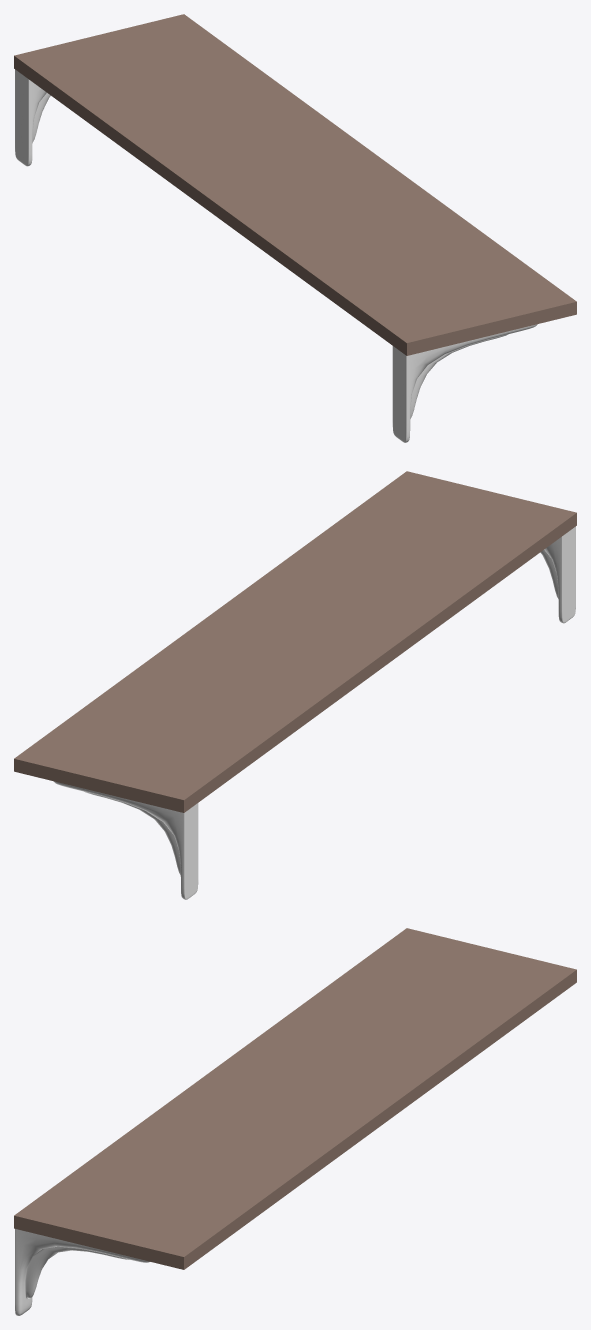
Rendered from Shelf.fbx.
3 renders of one model, top to bottom at view 1: azimuth 30°, elevation 25°; view 2: azimuth 150°, elevation 25°; view 3: azimuth 330°, elevation 25°, orthographic.
Visible parts, largest first — view 1: Cube, Cube.003, Cube.002; view 2: Cube, Cube.002, Cube.003; view 3: Cube, Cube.003.
Boxes of the visible parts, left/top/right/bottom form: Cube: left=14, top=14, right=576, bottom=355; Cube.003: left=392, top=324, right=537, bottom=442; Cube.002: left=15, top=69, right=50, bottom=166; Cube: left=14, top=471, right=576, bottom=812; Cube.002: left=54, top=781, right=198, bottom=899; Cube.003: left=540, top=526, right=575, bottom=623; Cube: left=14, top=928, right=576, bottom=1269; Cube.003: left=15, top=1229, right=149, bottom=1315.
Size of the model in its own units: 200 by 115 by 800.
